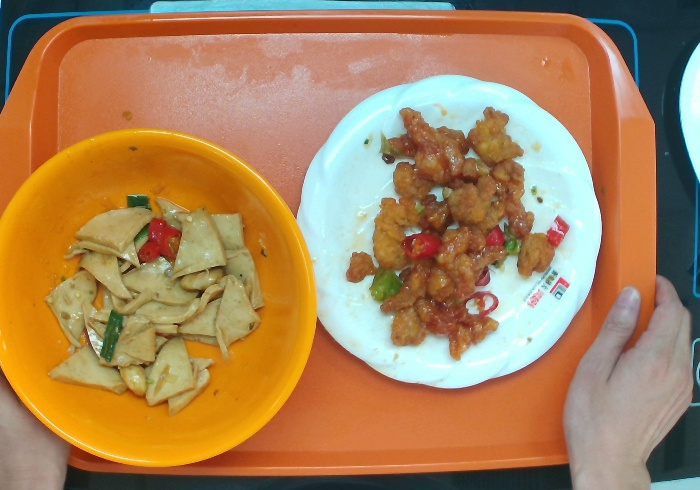ZNLD-Hua_Bian_Wan: (290, 65, 618, 396)
ZNLD-Ju_Se_Tang_Wan: (1, 112, 336, 473)
